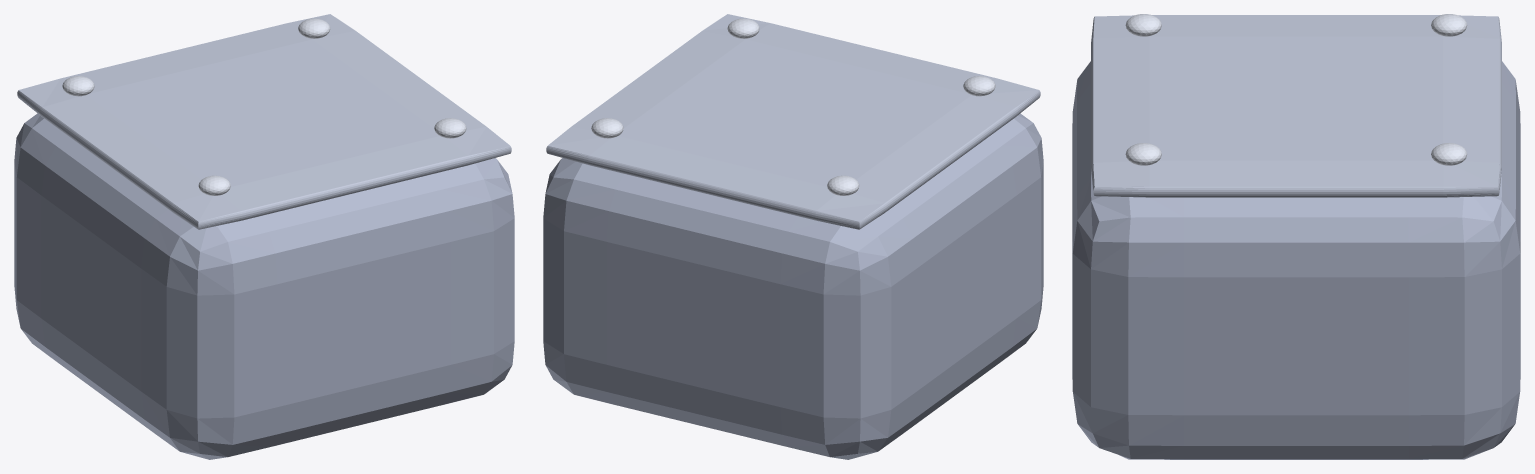
The model's file is wall_block.glb.
The picture shows the model from 3 angles, left to right: view 1: azimuth 30°, elevation 25°; view 2: azimuth 150°, elevation 25°; view 3: azimuth 270°, elevation 25°; orthographic projection. The views are drawn at different scales.
Visible parts, largest first — view 1: wall_block:body, wall_block:top_plate, wall_block:bolt4, wall_block:bolt2, wall_block:bolt3, wall_block:bolt1; view 2: wall_block:body, wall_block:top_plate, wall_block:bolt2, wall_block:bolt4, wall_block:bolt1, wall_block:bolt3; view 3: wall_block:body, wall_block:top_plate, wall_block:bolt2, wall_block:bolt4, wall_block:bolt1, wall_block:bolt3.
Boxes of the visible parts, bbox=[...] form: wall_block:body: bbox=[14, 113, 514, 459]; wall_block:top_plate: bbox=[17, 14, 511, 229]; wall_block:bolt4: bbox=[434, 118, 466, 138]; wall_block:bolt2: bbox=[298, 18, 330, 38]; wall_block:bolt3: bbox=[198, 175, 230, 195]; wall_block:bolt1: bbox=[62, 76, 94, 96]; wall_block:body: bbox=[543, 113, 1043, 459]; wall_block:top_plate: bbox=[546, 14, 1040, 229]; wall_block:bolt2: bbox=[591, 118, 623, 138]; wall_block:bolt4: bbox=[727, 18, 759, 38]; wall_block:bolt1: bbox=[827, 175, 859, 195]; wall_block:bolt3: bbox=[963, 76, 995, 96]; wall_block:body: bbox=[1072, 61, 1520, 459]; wall_block:top_plate: bbox=[1091, 15, 1501, 197]; wall_block:bolt2: bbox=[1431, 143, 1467, 165]; wall_block:bolt4: bbox=[1125, 143, 1161, 165]; wall_block:bolt1: bbox=[1431, 14, 1467, 36]; wall_block:bolt3: bbox=[1125, 14, 1161, 36].
Bounding box in the file's own units: 0.84 × 0.6367 × 0.84.
